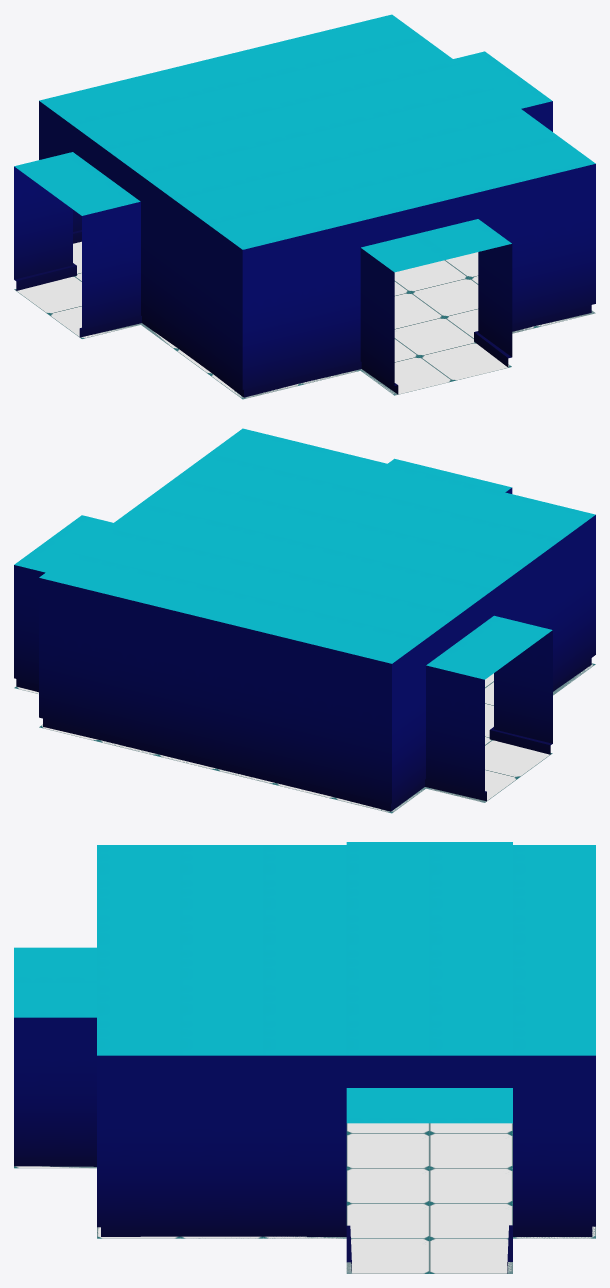
Rendered from SalaGrande2Saidas 1.fbx.
3 renders of one model, top to bottom at view 1: azimuth 30°, elevation 25°; view 2: azimuth 150°, elevation 25°; view 3: azimuth 270°, elevation 25°, orthographic. The views are drawn at different scales.
Visible parts, largest first — view 1: SalaGrande2Saidas; view 2: SalaGrande2Saidas; view 3: SalaGrande2Saidas.
Part boxes in pixels (x1,y1,x2,y2): SalaGrande2Saidas: (14, 14, 595, 399); SalaGrande2Saidas: (14, 428, 595, 813); SalaGrande2Saidas: (14, 842, 595, 1273).
Size of the model in its own units: 800 by 243 by 700.
Materials: 1 (1 with a texture image).
